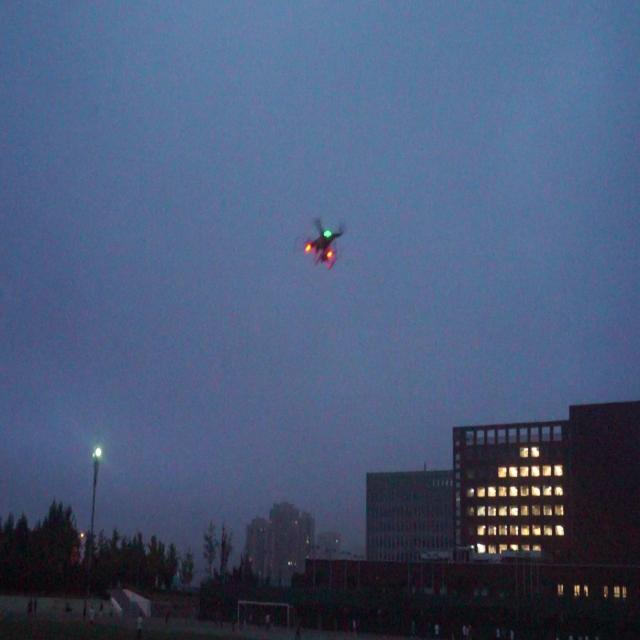UAV: (292, 218, 346, 270)
